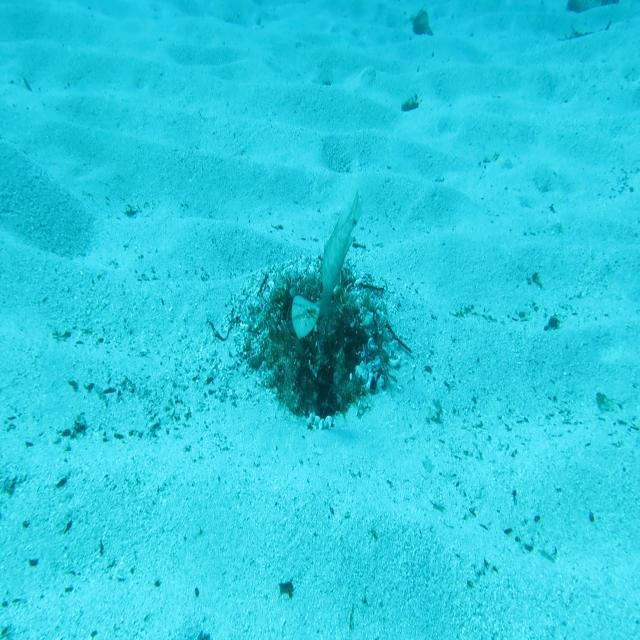NIP_CORE: (321, 188, 364, 300)
core_nest: (292, 288, 343, 324)
female: (291, 291, 335, 340)
nest: (230, 258, 404, 436)
vegetation: (567, 0, 622, 18), (407, 6, 433, 40), (398, 90, 423, 114), (278, 582, 296, 596)
